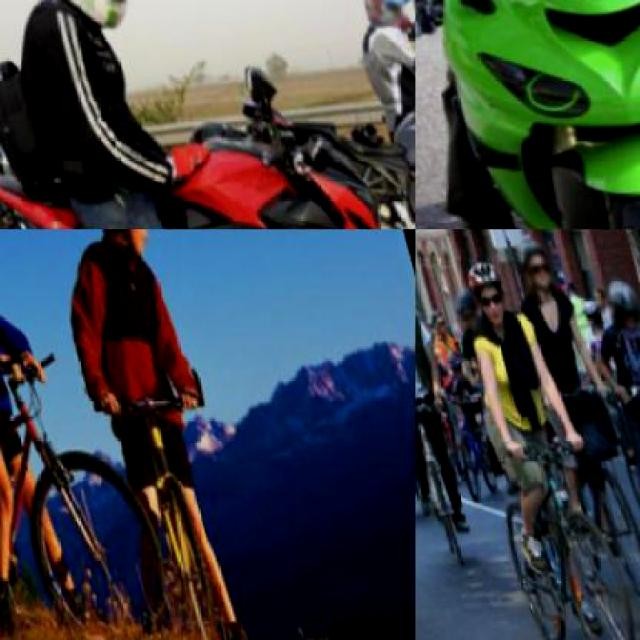With Helmet: (452, 245, 518, 333), (29, 0, 136, 38), (509, 230, 562, 292), (596, 258, 638, 332), (83, 229, 163, 262), (447, 278, 482, 328), (355, 0, 411, 25)
